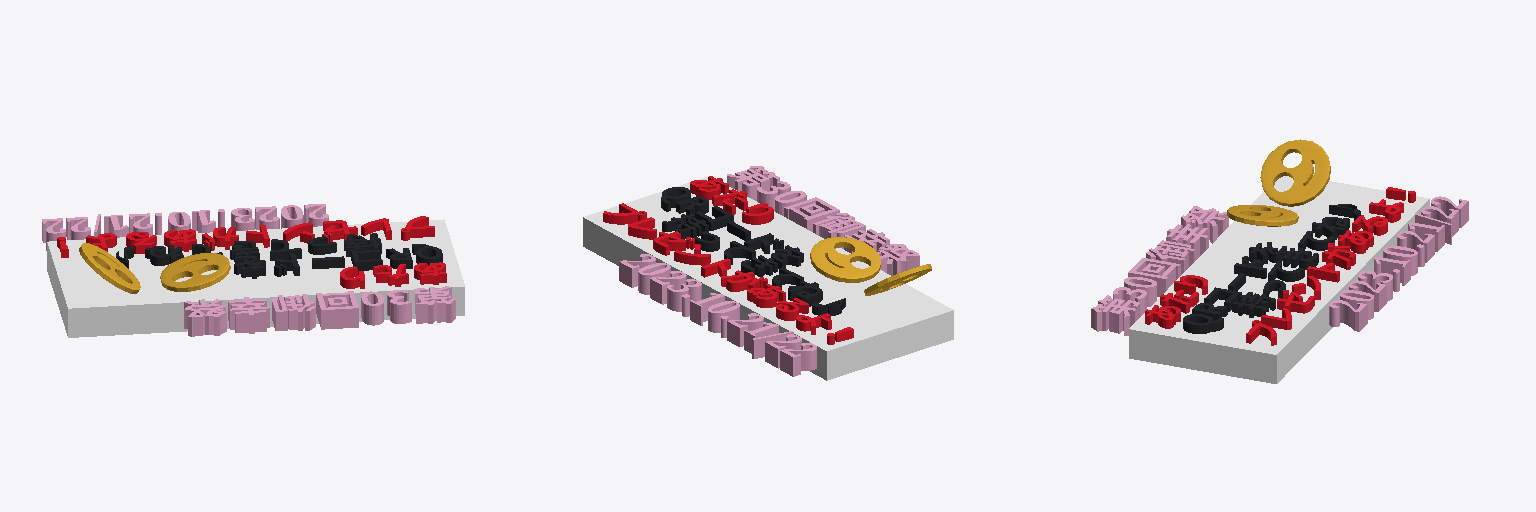
Rendered from tinker.obj.
The picture shows the model from 3 angles: view 1: azimuth 30°, elevation 25°; view 2: azimuth 150°, elevation 25°; view 3: azimuth 270°, elevation 25°; orthographic projection.
Parts seen in each view (by area): view 1: obj_0; view 2: obj_0; view 3: obj_0.
Boxes of the visible parts, x1=… form: obj_0: x1=42, y1=204, x2=464, y2=337; obj_0: x1=583, y1=166, x2=953, y2=380; obj_0: x1=1091, y1=139, x2=1468, y2=383.
Bounding box in the file's own units: 30.15 × 5.74 × 26.4.